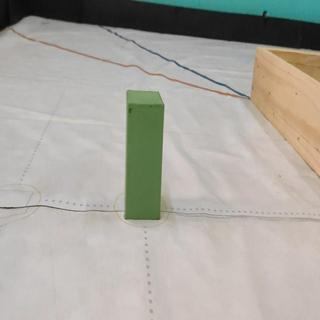greenbox: (125, 87, 165, 221)
